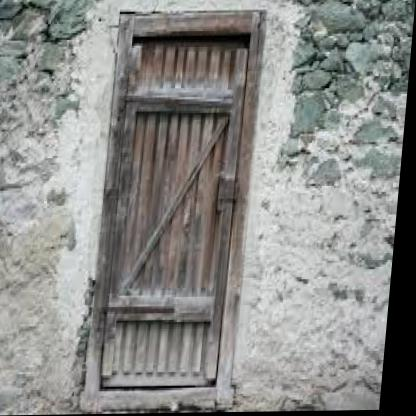door: (97, 13, 265, 403)
